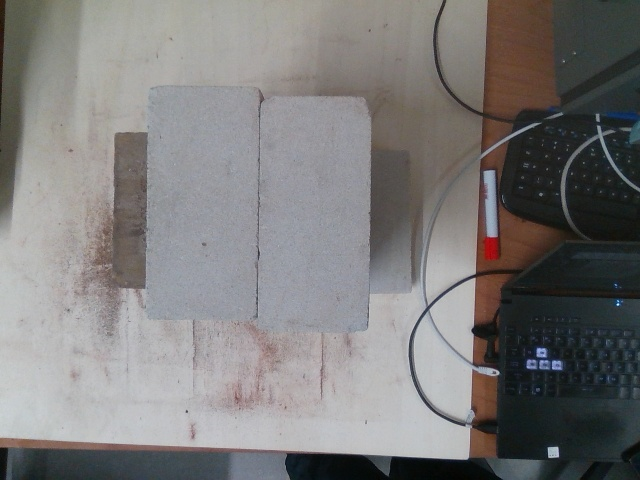brick: (148, 83, 254, 316), (261, 96, 366, 329)
